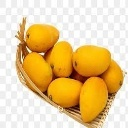mango: (26, 22, 60, 55)
